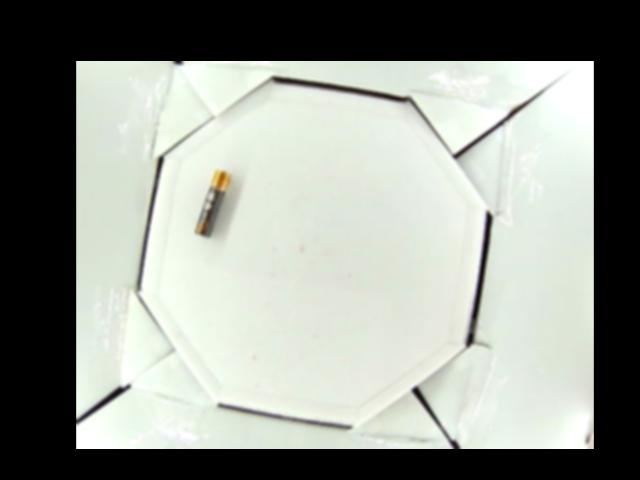Battery: (195, 170, 229, 236)
